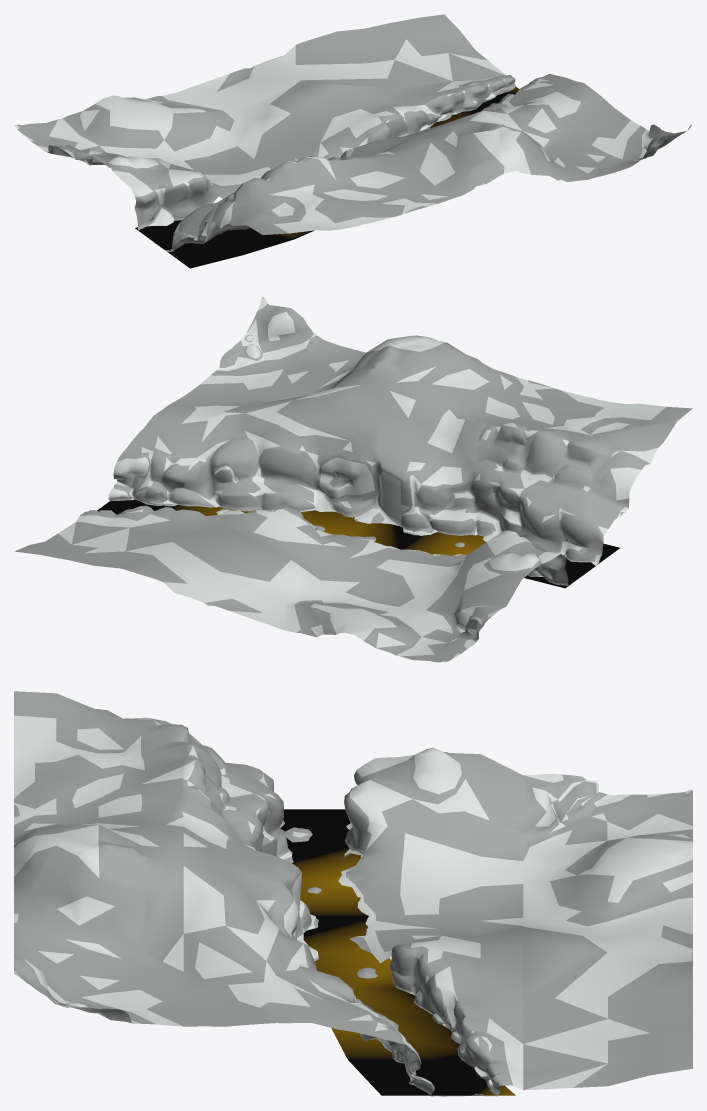
3 views of the same model, one above another, from view 1: azimuth 30°, elevation 25°; view 2: azimuth 150°, elevation 25°; view 3: azimuth 270°, elevation 25° (orthographic). The views are drawn at different scales.
Parts seen in each view (by area): view 1: G:\FFXIV-MapTools\exports\f1f3\bg\ffxiv\fst_f1\fld\f1f3\bgpl (×18); view 2: G:\FFXIV-MapTools\exports\f1f3\bg\ffxiv\fst_f1\fld\f1f3\bgpl (×17); view 3: G:\FFXIV-MapTools\exports\f1f3\bg\ffxiv\fst_f1\fld\f1f3\bgpl (×19).
Boxes of the visible parts, <box> form: G:\FFXIV-MapTools\exports\f1f3\bg\ffxiv\fst_f1\fld\f1f3\bgpl (×18): <box>17,14,686,268</box>; G:\FFXIV-MapTools\exports\f1f3\bg\ffxiv\fst_f1\fld\f1f3\bgpl (×17): <box>14,297,692,662</box>; G:\FFXIV-MapTools\exports\f1f3\bg\ffxiv\fst_f1\fld\f1f3\bgpl (×19): <box>14,691,692,1096</box>.
Size of the model in its own units: 128 by 32.06 by 128.
